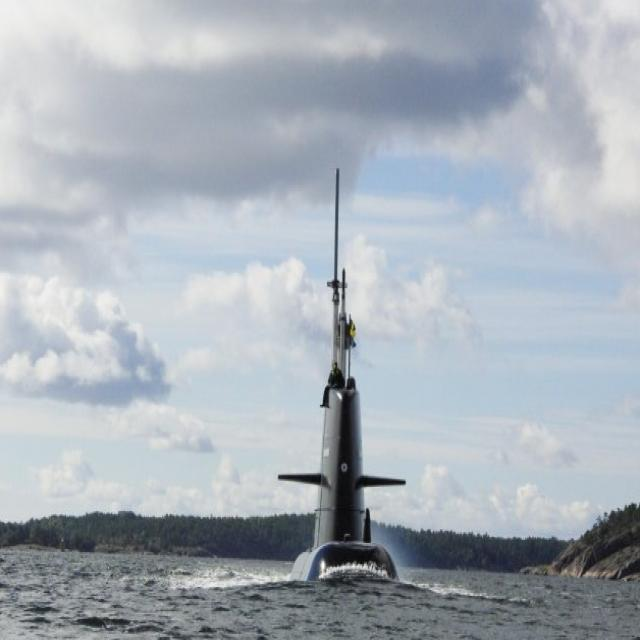submarine: (276, 147, 403, 579)
